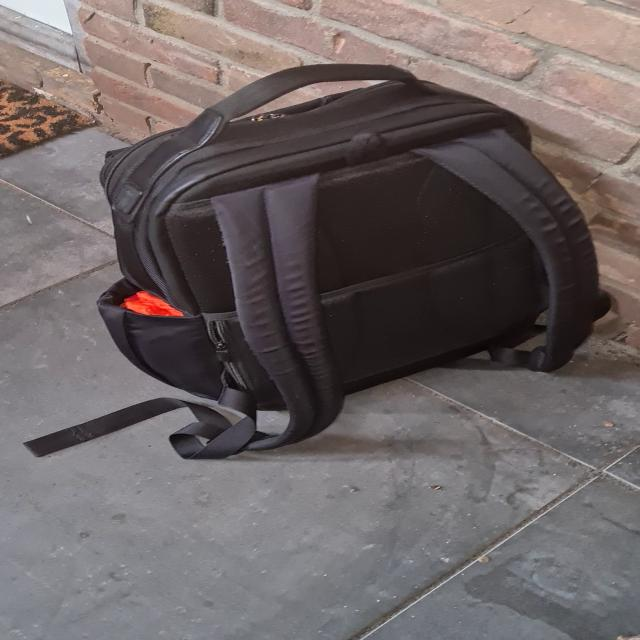backpack: (82, 48, 621, 460)
